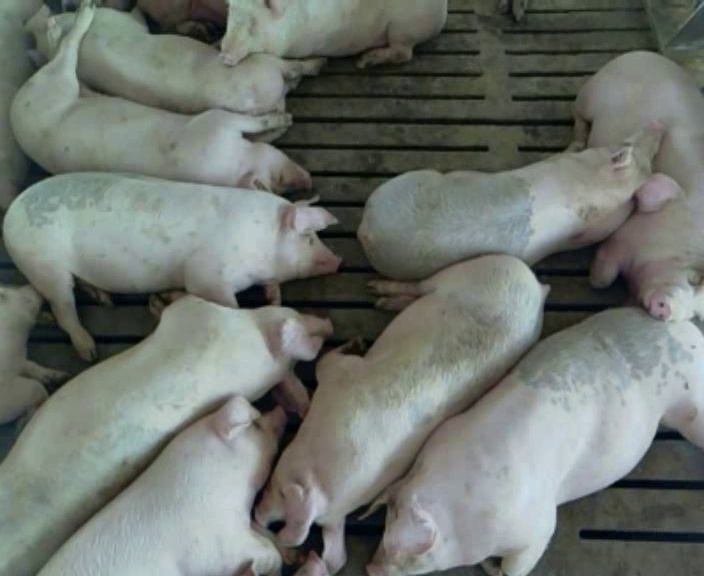pig: (0, 291, 330, 573), (256, 255, 545, 572), (359, 308, 703, 574), (4, 173, 339, 359), (11, 6, 310, 192), (358, 122, 685, 278), (39, 397, 297, 574), (577, 52, 703, 319), (221, 1, 446, 67), (0, 285, 65, 432)
